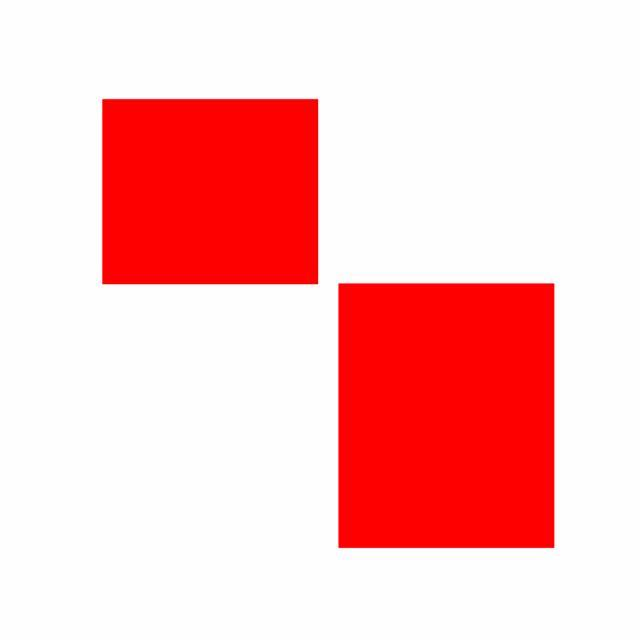Marubozu: (328, 282, 566, 552)
